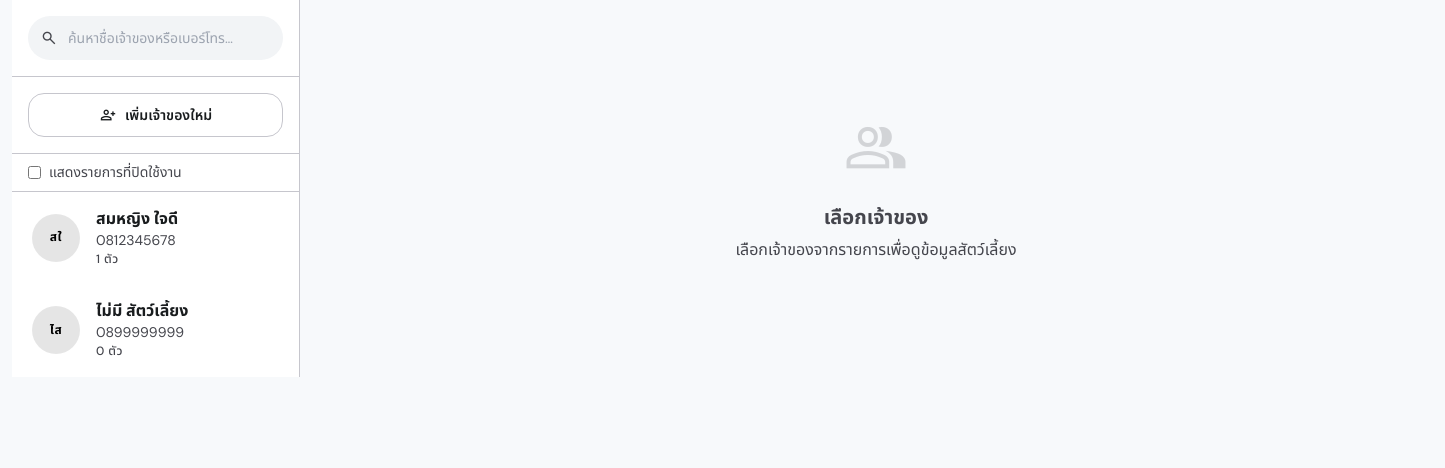
Test: ClinicPets — Thai i18n (I18N-12): owner detail › (a) Pets heading and Add Pet button render in Thai
Click the text "สมหญิง ใจดี".
click(137, 219)  # box [96,208,178,230]
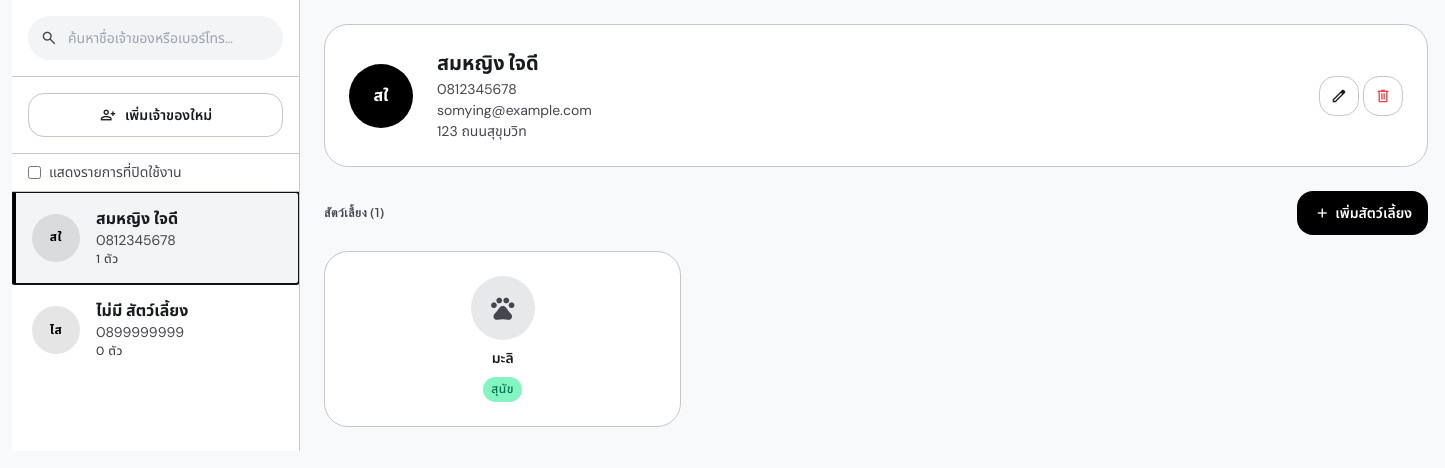
expect the text "somying@example.com" is shown: met, box [437,101,592,119]
expect the heading "สัตว์เลี้ยง (1)" is shown: met, box [324,205,385,221]
expect the button "เพิ่มสัตว์เลี้ยง" is shown: met, box [1297,191,1428,235]
